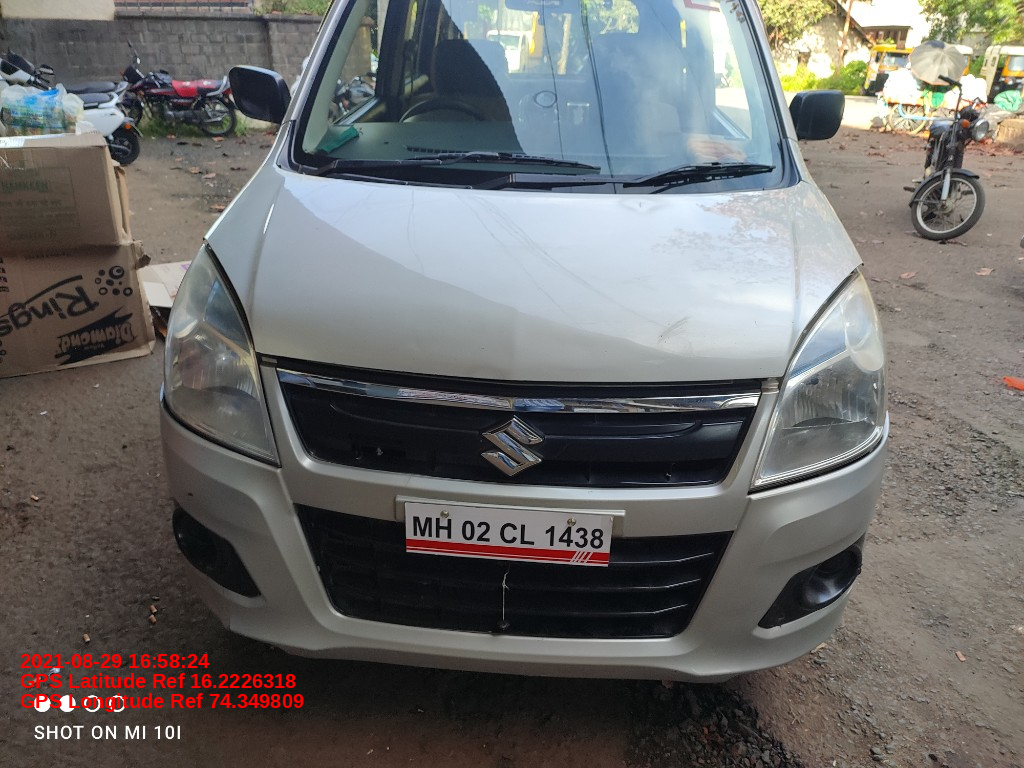Scratched: (180, 485, 203, 509)
